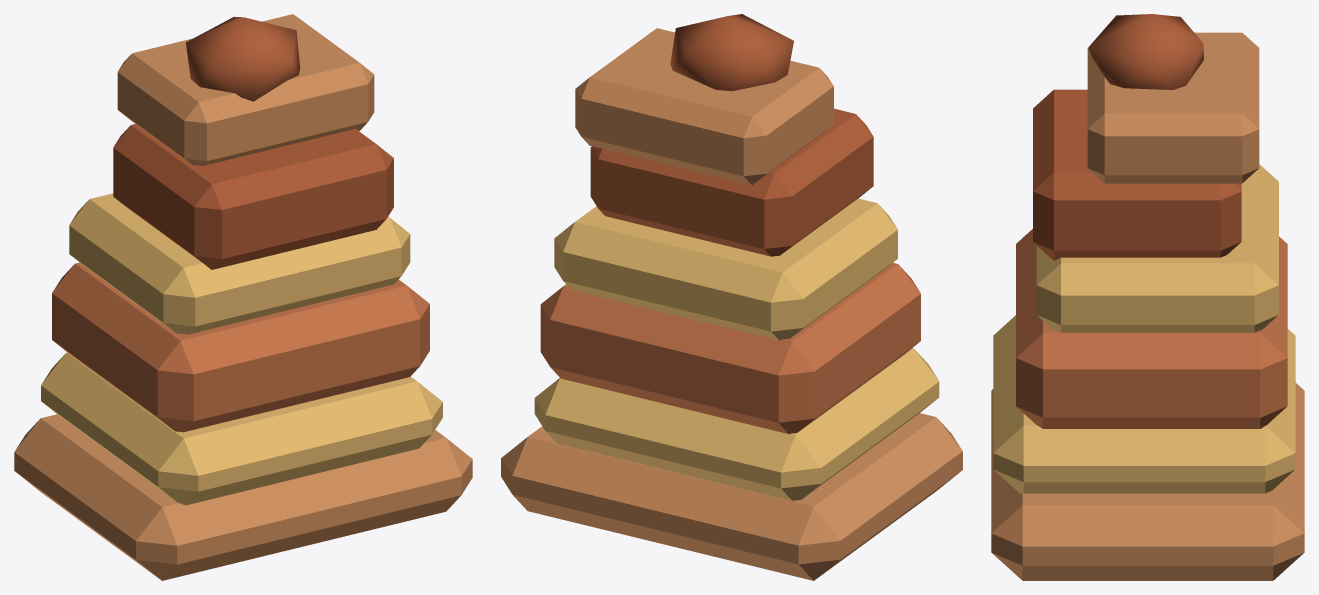
The model's file is hd_mesa_b.gltf.
3 renders of one model, left to right at view 1: azimuth 30°, elevation 25°; view 2: azimuth 150°, elevation 25°; view 3: azimuth 270°, elevation 25°, orthographic. The views are drawn at different scales.
Parts seen in each view (by area): view 1: strata2, strata0, strata1, strata4, strata3, strata5, cap; view 2: strata0, strata2, strata3, strata1, strata5, strata4, cap; view 3: strata2, strata0, strata1, strata3, strata4, strata5, cap.
Part boxes in pixels (box(x1,y1,x2,y2)): strata2: box(52, 262, 429, 432); strata0: box(14, 414, 472, 580); strata1: box(41, 352, 442, 505); strata4: box(113, 124, 393, 269); strata3: box(69, 193, 410, 334); strata5: box(117, 14, 374, 165); cap: box(186, 16, 299, 101); strata0: box(501, 413, 962, 580); strata2: box(540, 263, 920, 433); strata3: box(554, 198, 897, 340); strata1: box(534, 348, 939, 500); strata5: box(575, 28, 833, 185); strata4: box(590, 108, 873, 256); cap: box(670, 14, 793, 91); strata2: box(1016, 229, 1287, 428); strata0: box(991, 383, 1304, 580); strata1: box(993, 315, 1295, 493); strata3: box(1036, 164, 1278, 332); strata4: box(1033, 89, 1241, 260); strata5: box(1087, 32, 1259, 183); cap: box(1088, 14, 1203, 89).
Size of the model in its own units: 4.46 by 6.1 by 3.49.
